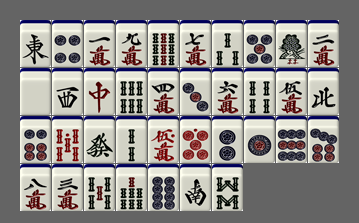0m: (148, 116, 179, 163)
0p: (180, 116, 211, 163)
0s: (52, 116, 83, 163)
1m: (84, 20, 115, 67)
1p: (244, 116, 275, 163)
1s: (276, 20, 307, 67)
1z: (20, 20, 51, 67)
2m: (308, 20, 339, 67)
2p: (212, 116, 243, 163)
2s: (116, 116, 147, 163)
2z: (180, 164, 211, 211)
3m: (52, 164, 83, 211)
3p: (180, 68, 211, 115)
3s: (212, 20, 243, 67)
3z: (52, 68, 83, 115)
4m: (148, 68, 179, 115)
4p: (52, 20, 83, 67)
4s: (244, 68, 275, 115)
4z: (308, 68, 339, 115)
5m: (276, 68, 307, 115)
5p: (244, 20, 275, 67)
5s: (84, 164, 115, 211)
5z: (20, 68, 51, 115)
6m: (212, 68, 243, 115)
6p: (20, 116, 51, 163)
6s: (116, 68, 147, 115)
6z: (84, 116, 115, 163)
7m: (180, 20, 211, 67)
7p: (308, 116, 339, 163)
7s: (116, 164, 147, 211)
7z: (84, 68, 115, 115)
8m: (20, 164, 51, 211)
8p: (148, 164, 179, 211)
8s: (212, 164, 243, 211)
9m: (116, 20, 147, 67)
9p: (276, 116, 307, 163)
9s: (148, 20, 179, 67)
